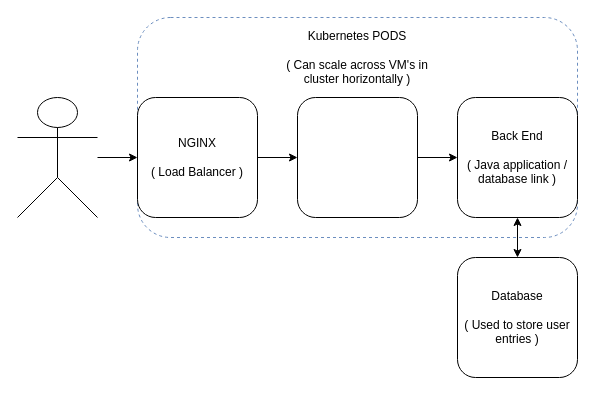
Some shapes in this 595 by 395 pixel diagram are drawn without their labels. The box of each missing label's shape, as (x1, y1, x2, y2) in pixels:
Actor: (16, 96, 98, 218)
Front End ( Java application / http website ): (296, 96, 418, 218)
